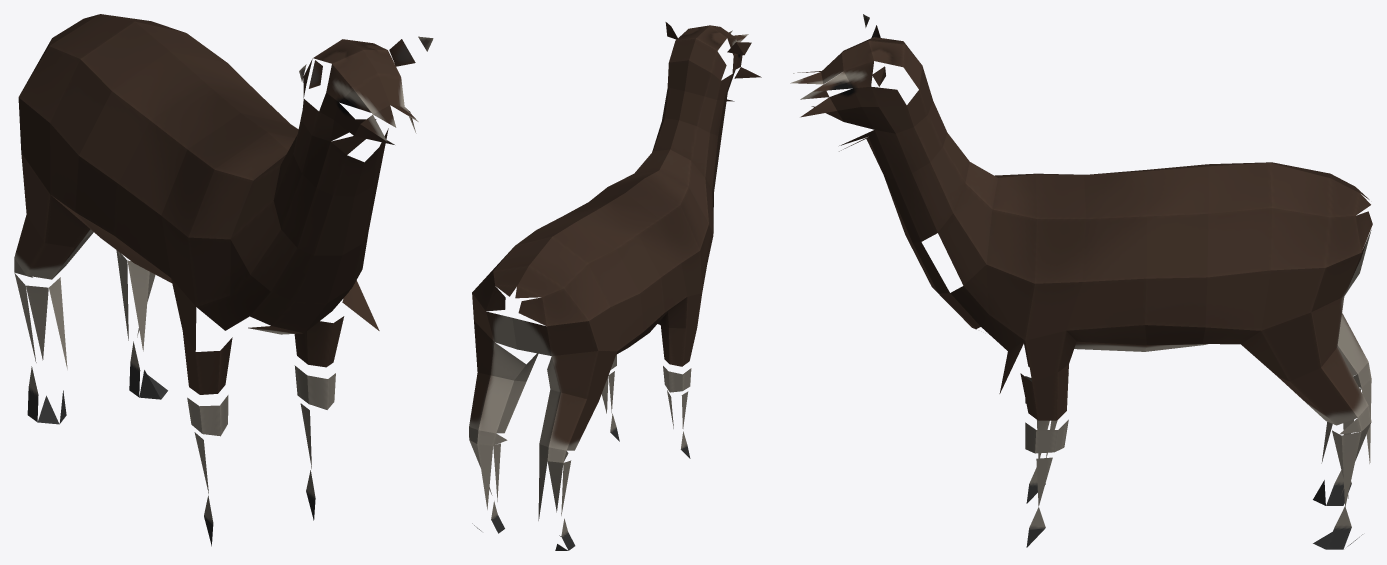
File: goat.glb
3 renders of one model, left to right at view 1: azimuth 30°, elevation 25°; view 2: azimuth 150°, elevation 25°; view 3: azimuth 270°, elevation 25°, orthographic. The views are drawn at different scales.
Parts seen in each view (by area): view 1: Goat_mesh; view 2: Goat_mesh; view 3: Goat_mesh.
Boxes of the visible parts, x1,y1,x2,y2 form: Goat_mesh: [14, 14, 433, 546]; Goat_mesh: [469, 22, 761, 550]; Goat_mesh: [790, 14, 1372, 549].
Bounding box in the file's own units: 2.26 × 6.14 × 6.74.
1 material, 1 textured.
